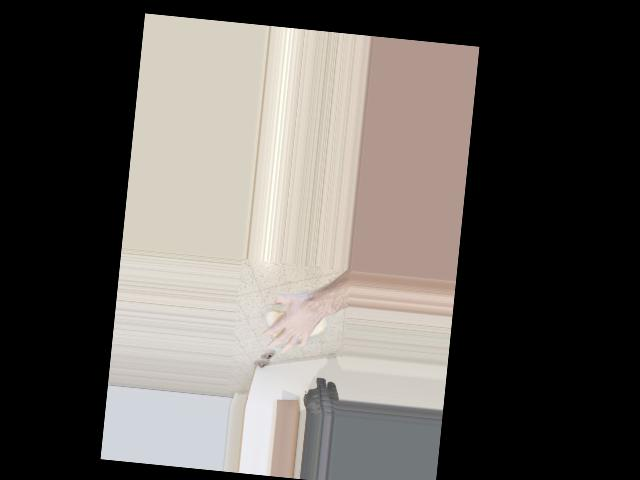cheese: (259, 285, 331, 356)
